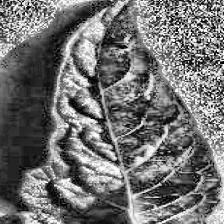spider mites: (19, 0, 221, 224)
